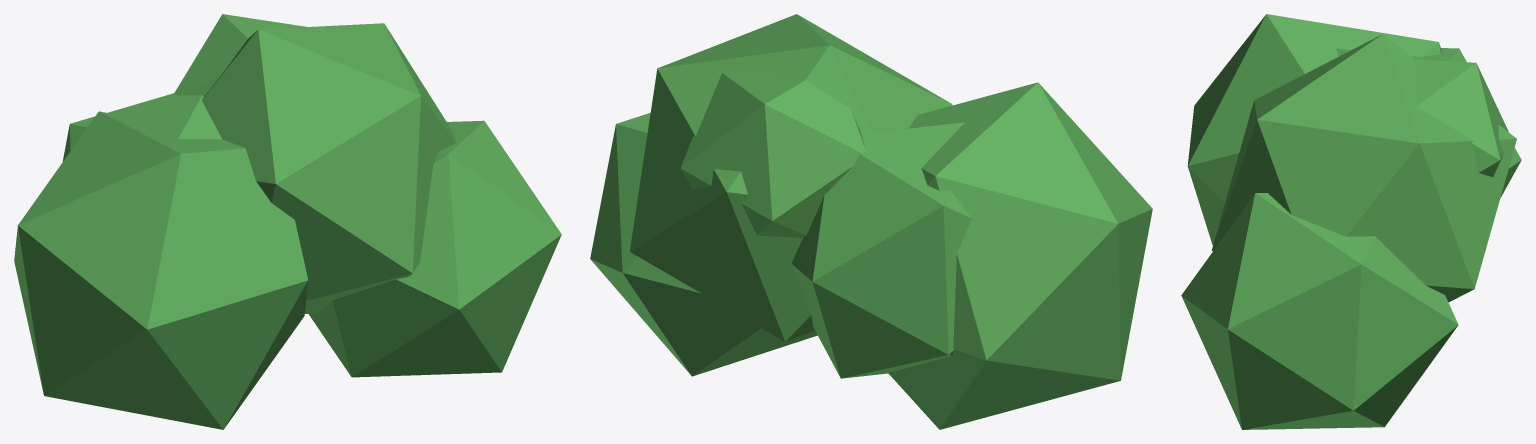
File: leaves.glb
3 views of the same model, side by side, from view 1: azimuth 30°, elevation 25°; view 2: azimuth 150°, elevation 25°; view 3: azimuth 270°, elevation 25° (orthographic). The views are drawn at different scales.
Bounding box in the file's own units: 1.26 × 0.8343 × 0.7749.
